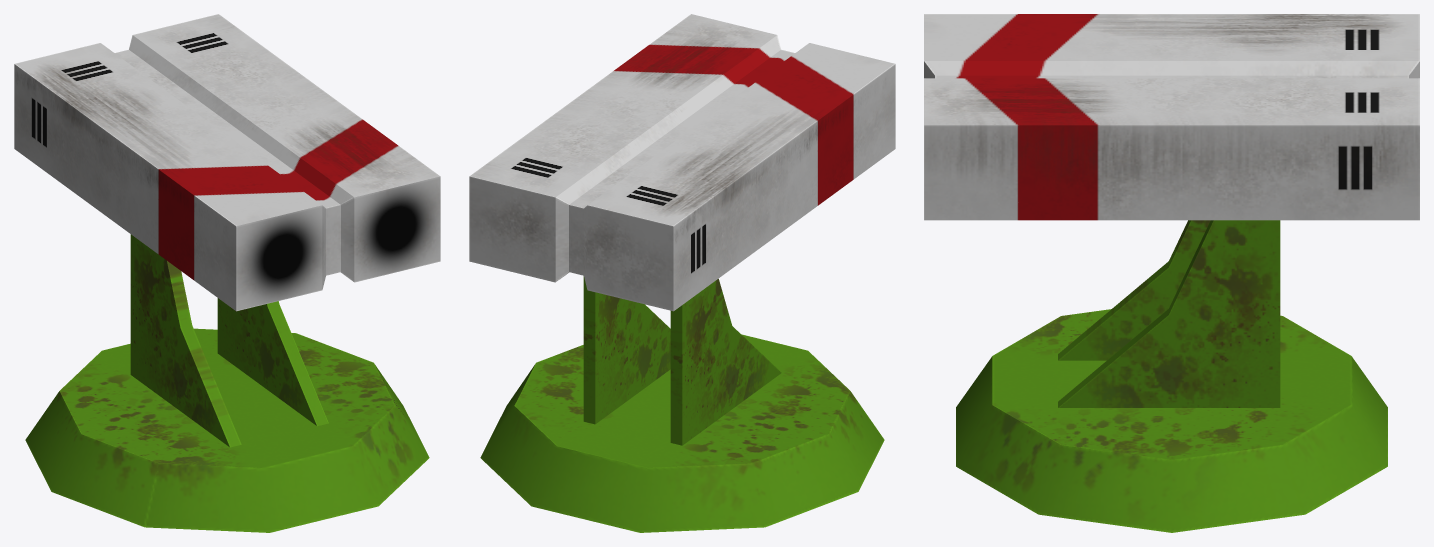
File: RocketLauncher.FBX
3 views of the same model, side by side, from view 1: azimuth 30°, elevation 25°; view 2: azimuth 150°, elevation 25°; view 3: azimuth 270°, elevation 25° (orthographic). The views are drawn at different scales.
Visible parts, largest first — view 1: RocketLauncher_Head, RocketLauncher_Basement, RocketLauncher_Body; view 2: RocketLauncher_Head, RocketLauncher_Basement, RocketLauncher_Body; view 3: RocketLauncher_Head, RocketLauncher_Basement, RocketLauncher_Body.
Boxes of the visible parts, bbox=[...] form: RocketLauncher_Head: bbox=[14, 14, 440, 311]; RocketLauncher_Basement: bbox=[25, 328, 429, 532]; RocketLauncher_Body: bbox=[130, 234, 328, 447]; RocketLauncher_Head: bbox=[469, 14, 895, 311]; RocketLauncher_Basement: bbox=[480, 334, 884, 532]; RocketLauncher_Body: bbox=[583, 276, 781, 445]; RocketLauncher_Head: bbox=[924, 14, 1419, 220]; RocketLauncher_Basement: bbox=[956, 309, 1387, 532]; RocketLauncher_Body: bbox=[1058, 220, 1280, 407].
Bounding box in the file's own units: 40.82 × 36.42 × 44.56.
1 material, 1 textured.
